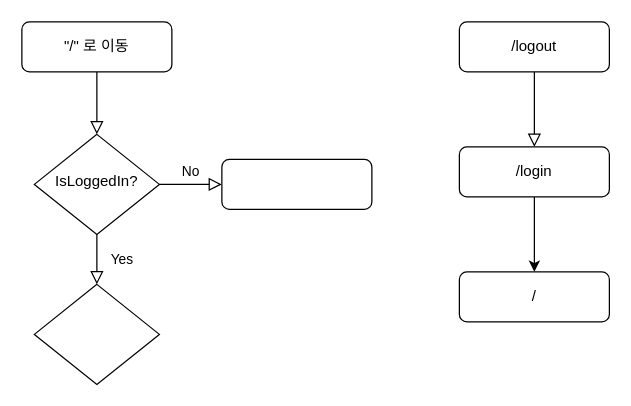
The diagram is 631 pixels wide and 406 high, and some of its shapes have lost their labels. The shapes that lost their labels are listed below. From the top down, each one's box as (x1, y1, x2, y2) in pixels, then its label:
(221, 158, 372, 209): "/login"로 이동
(33, 283, 159, 384): "/"에 머무름
